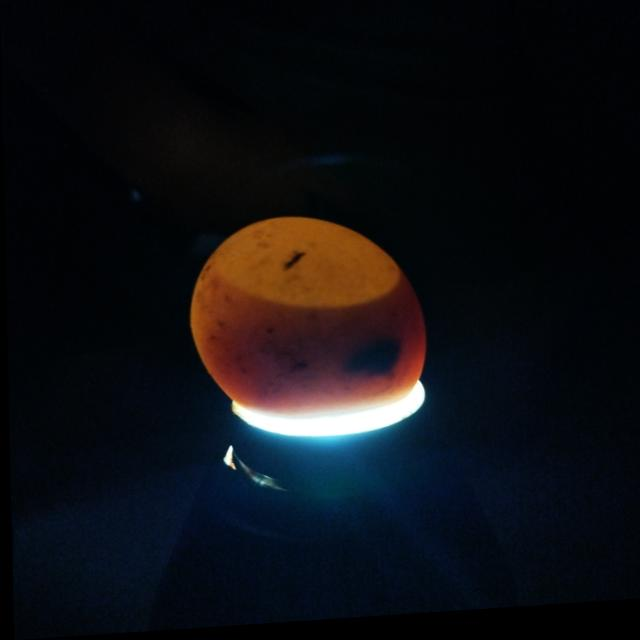Area Infectada: (233, 319, 409, 403)
